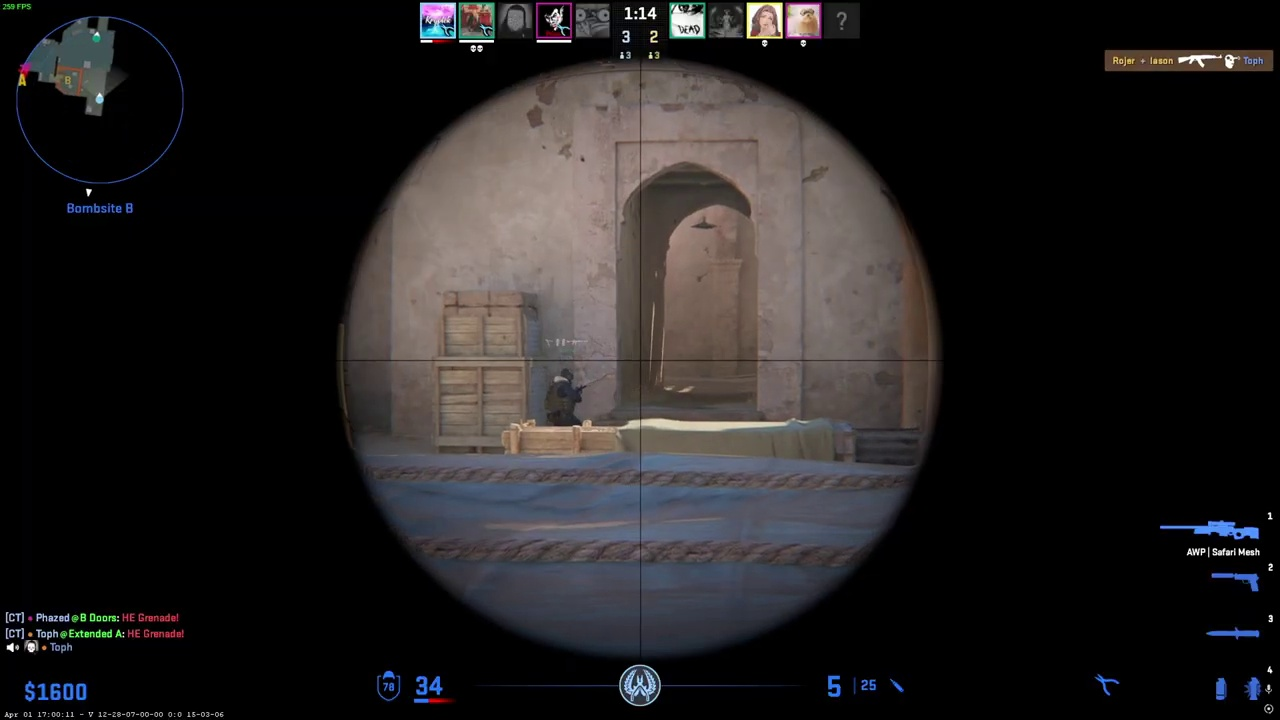CT: (545, 368, 583, 426)
